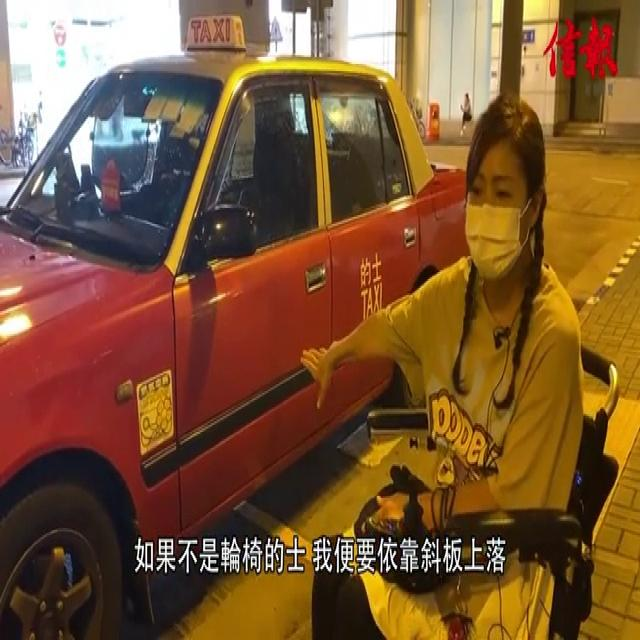wheelchairs: (348, 327, 626, 640)
